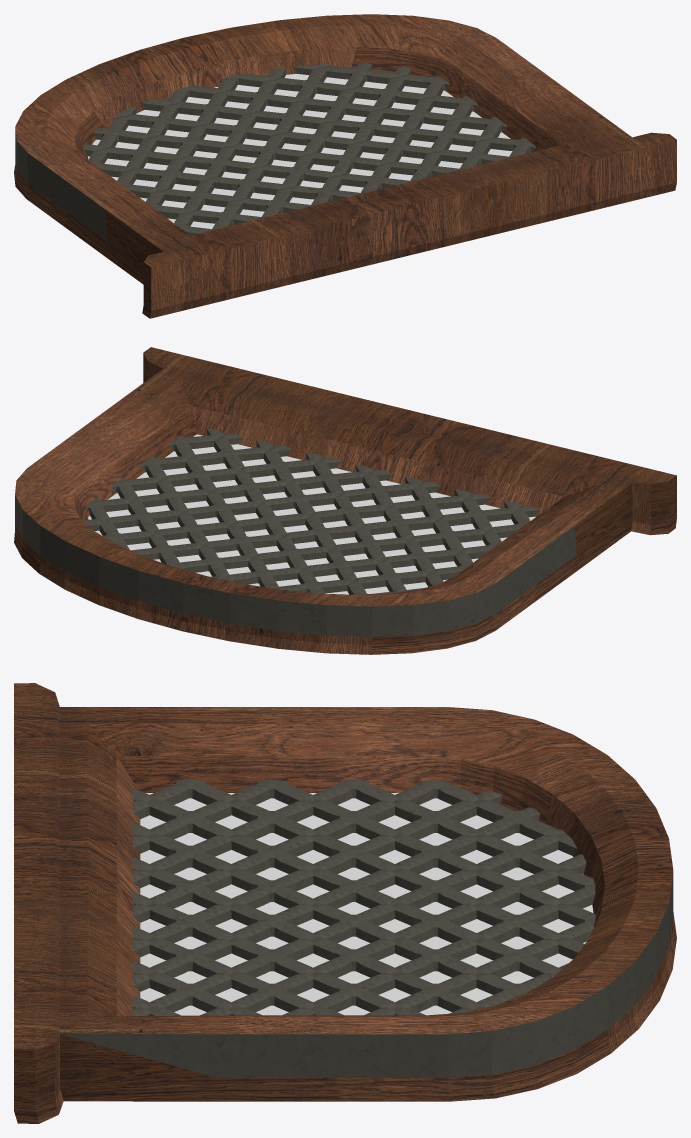
Rendered from Window3.fbx.
3 views of the same model, one above another, from view 1: azimuth 30°, elevation 25°; view 2: azimuth 150°, elevation 25°; view 3: azimuth 270°, elevation 25° (orthographic). The views are drawn at different scales.
Parts seen in each view (by area): view 1: OknoTypAFIX; view 2: OknoTypAFIX; view 3: OknoTypAFIX.
Boxes of the visible parts, bbox=[...] form: OknoTypAFIX: bbox=[14, 14, 676, 318]; OknoTypAFIX: bbox=[14, 347, 676, 654]; OknoTypAFIX: bbox=[14, 683, 676, 1123].
Size of the model in its own units: 415 by 39.15 by 317.
